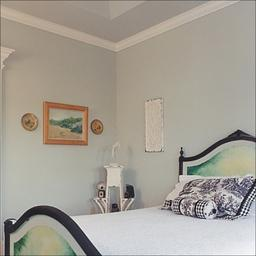Cama: (6, 133, 252, 252)
